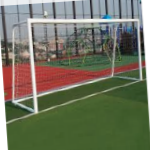goals: (10, 17, 143, 114)
